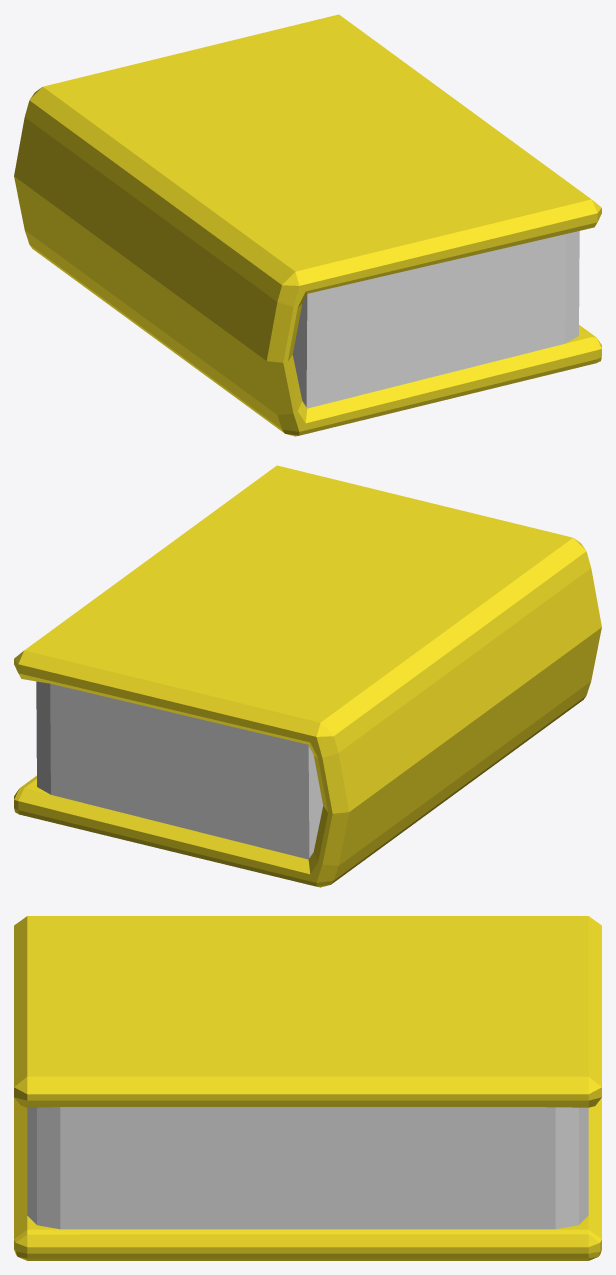
File: Book3.fbx
The picture shows the model from 3 angles, top to bottom: view 1: azimuth 30°, elevation 25°; view 2: azimuth 150°, elevation 25°; view 3: azimuth 270°, elevation 25°; orthographic projection. The views are drawn at different scales.
Visible parts, largest first — view 1: Book3; view 2: Book3; view 3: Book3.
Part boxes in pixels (<box>): Book3: <box>14,14,601,436</box>; Book3: <box>14,465,601,887</box>; Book3: <box>14,916,601,1260</box>.
Size of the model in its own units: 0.2573 by 0.121 by 0.3517.
1 material, 1 textured.
